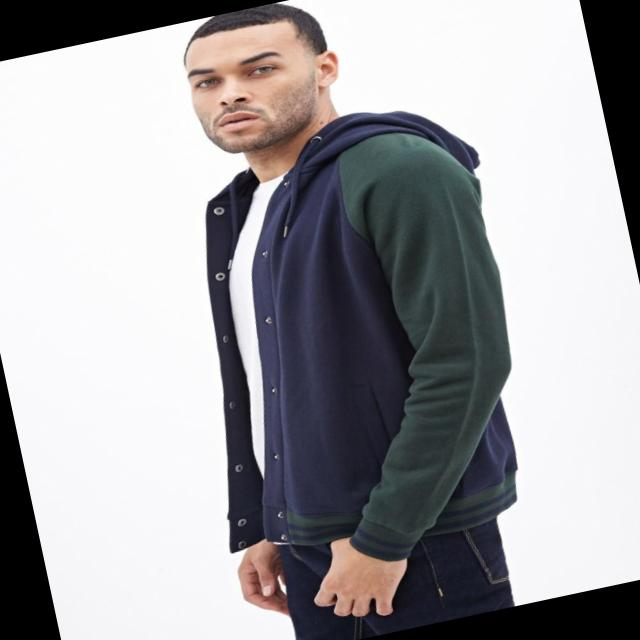Jacket: (137, 99, 576, 584)
